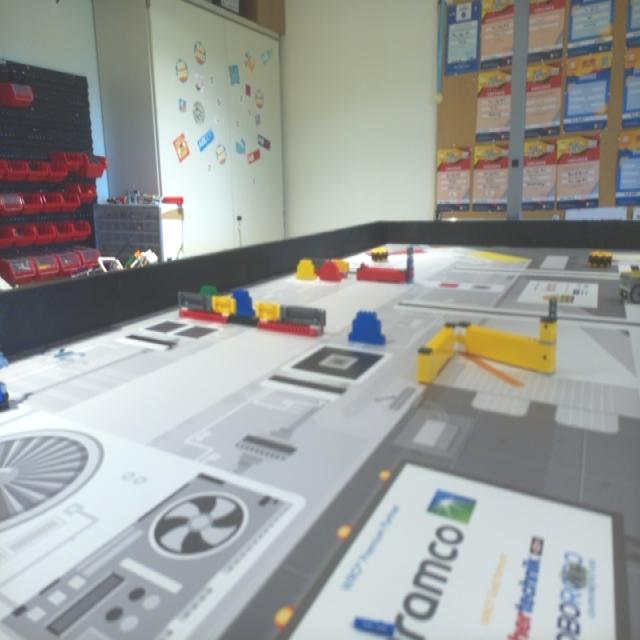blau: (348, 302, 388, 352), (228, 286, 256, 321)
gruen: (198, 284, 218, 299)
rot: (318, 255, 342, 288)
yellow: (294, 254, 318, 281)
